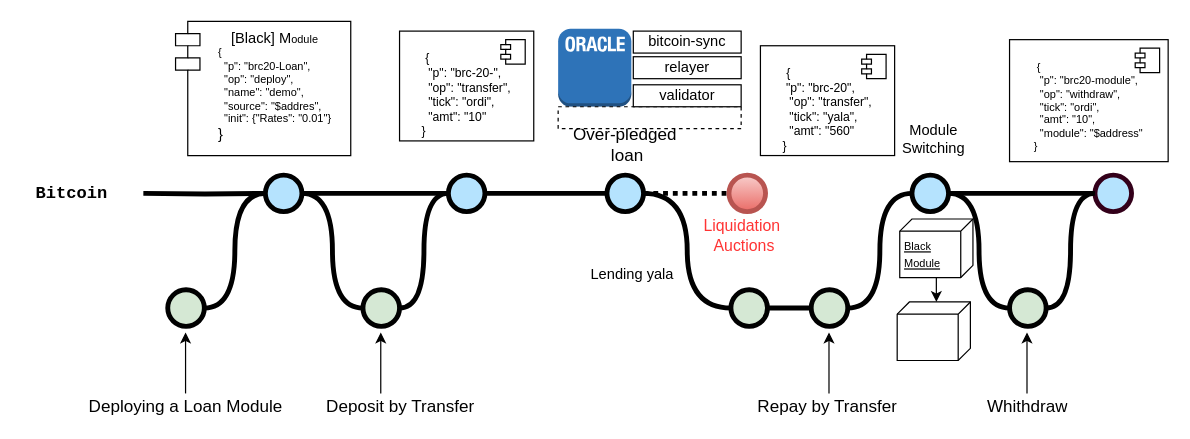
Image size: 1190x439. Some labels were removed from this diagram. The shapes that lost their labels are listed below. From the top down, each one's box as (x1, y1, x2, y2) in pixels, then its label:
(557, 106, 741, 129): Stacks (L2)
(896, 301, 970, 361): White Module
